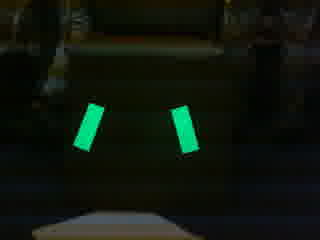target: (71, 101, 201, 154)
